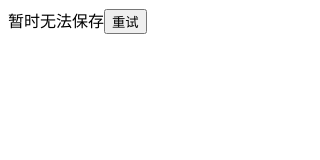
Scenario: keeps failures visible without retrying forever and lets the user retry
Click the button "重试" at (125, 22), box [104, 9, 147, 34]
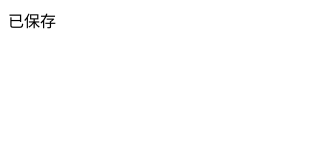
Check: the text "已保存" is shown, box [8, 13, 56, 30]
